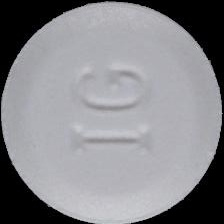53808-0653: (0, 0, 224, 224)
